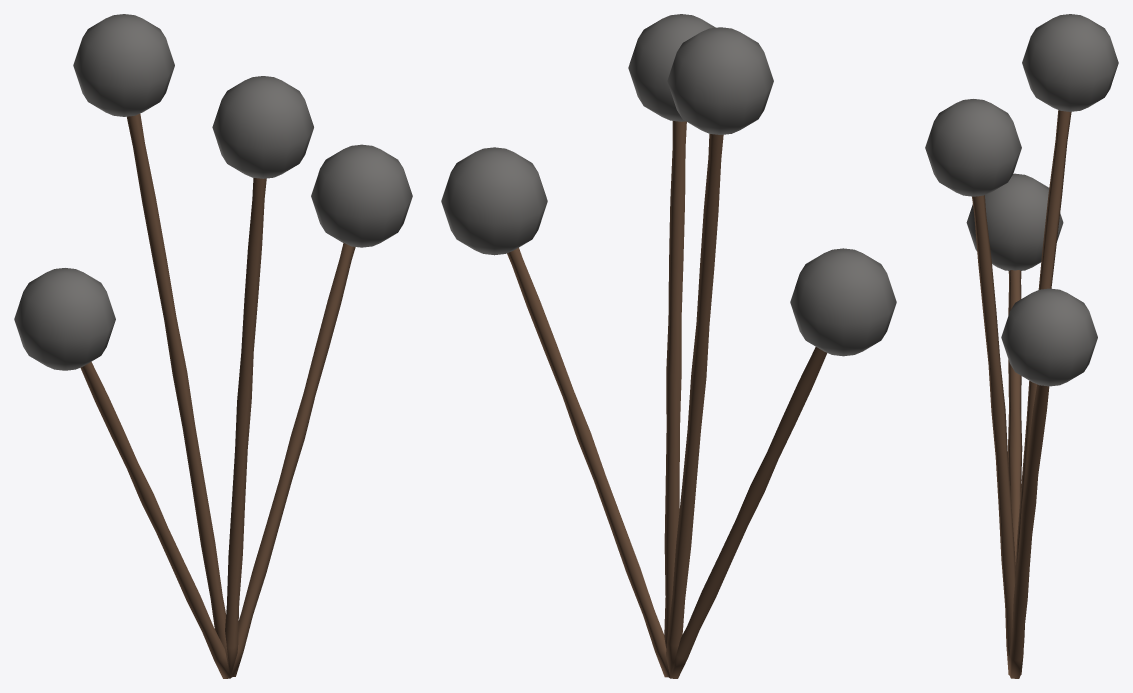
File: dire-bolas.glb
3 renders of one model, left to right at view 1: azimuth 30°, elevation 25°; view 2: azimuth 150°, elevation 25°; view 3: azimuth 270°, elevation 25°, orthographic. The views are drawn at different scales.
Parts seen in each view (by area): view 1: dire-bolas; view 2: dire-bolas; view 3: dire-bolas.
Part boxes in pixels (box(x1,y1,x2,y2)): dire-bolas: box(14, 14, 412, 678); dire-bolas: box(441, 14, 896, 678); dire-bolas: box(925, 14, 1118, 678).
Size of the model in its own units: 0.64 by 0.994 by 0.28.
